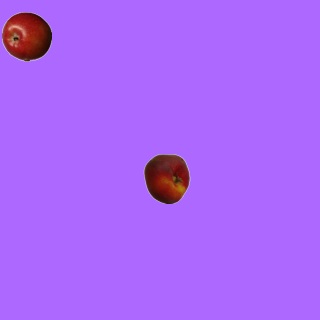Apple Braeburn: (1, 11, 51, 61)
Nectarine Flat: (141, 153, 191, 203)
